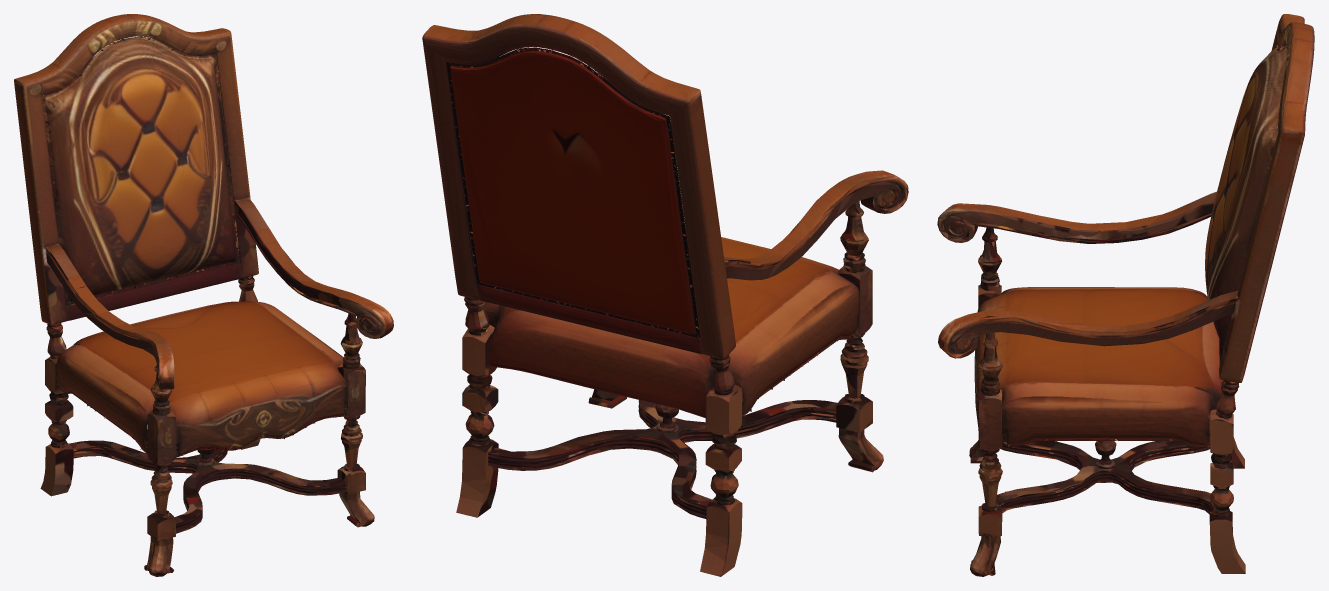
Rendered from edited_mesh.glb.
3 renders of one model, left to right at view 1: azimuth 30°, elevation 25°; view 2: azimuth 150°, elevation 25°; view 3: azimuth 270°, elevation 25°, orthographic. The views are drawn at different scales.
Visible parts, largest first — view 1: solid_001_wire; view 2: solid_001_wire; view 3: solid_001_wire.
Part boxes in pixels (bbox=[...]): solid_001_wire: bbox=[14, 14, 393, 576]; solid_001_wire: bbox=[422, 14, 908, 576]; solid_001_wire: bbox=[937, 14, 1314, 576].
Bounding box in the file's own units: 0.8481 × 1.48 × 1.04.
Materials: 1 (1 with a texture image).
